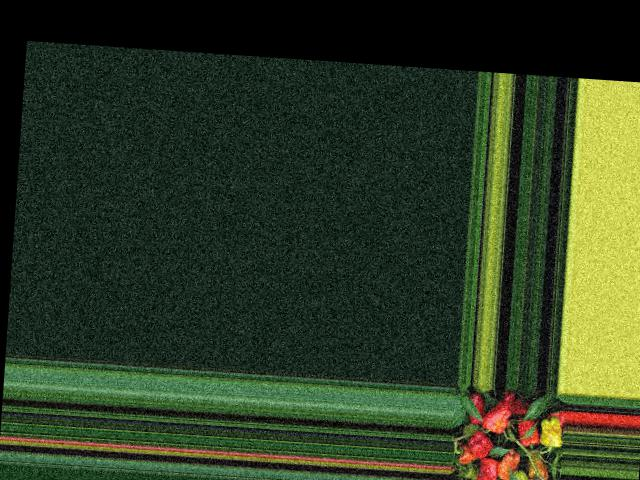bell_pepper: (455, 449, 475, 464)
